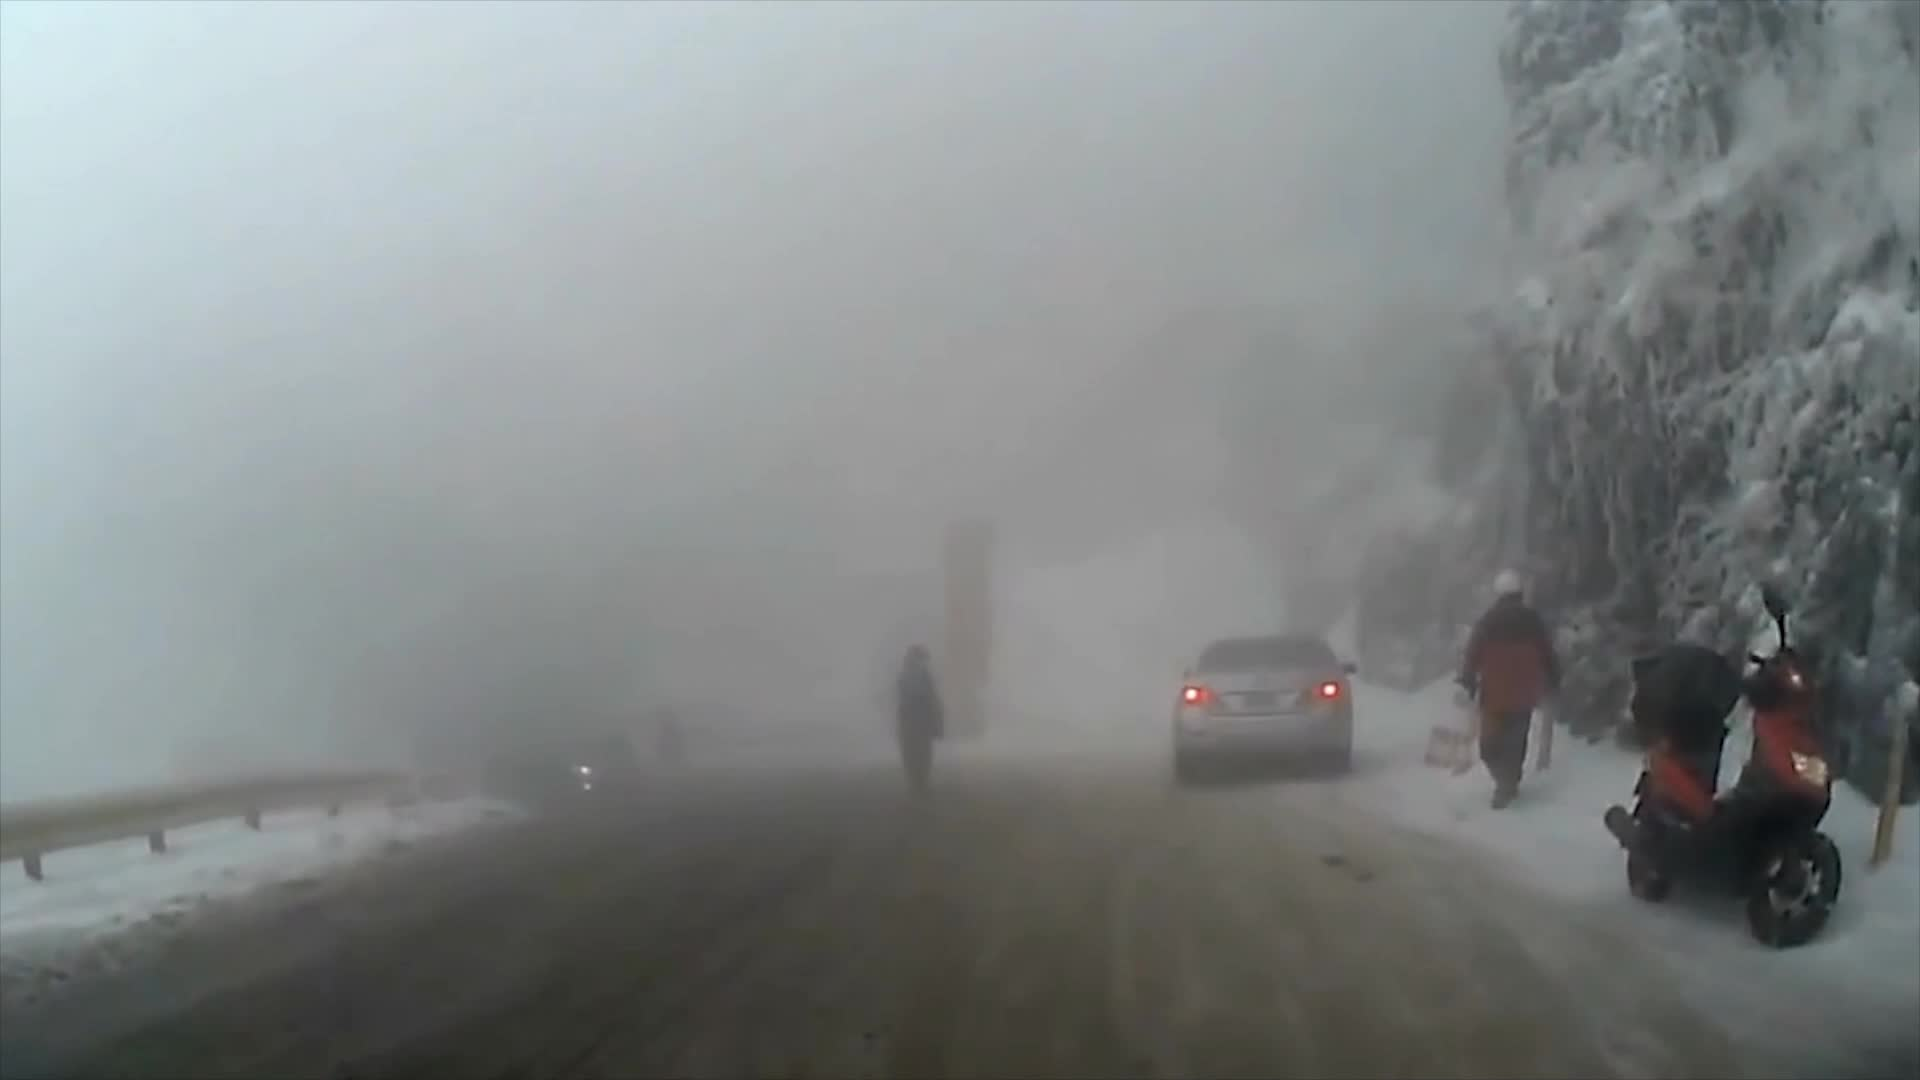pedestrian: (1461, 568, 1566, 816), (892, 642, 942, 803)
vehicle: (1171, 633, 1360, 787)
